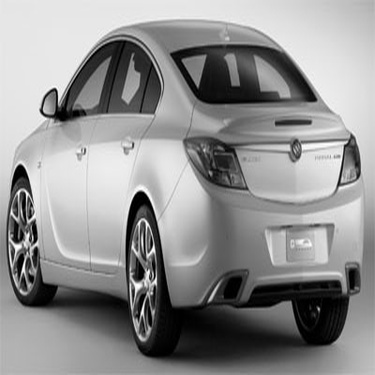car: (1, 13, 364, 360)
